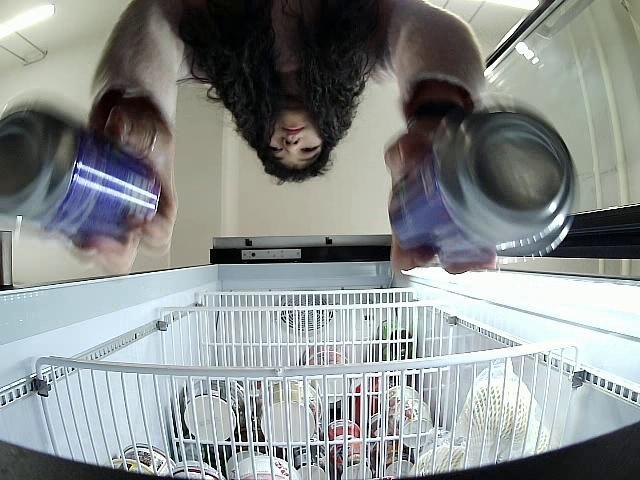14_welchsGrape: (390, 95, 578, 262), (0, 106, 164, 248)
